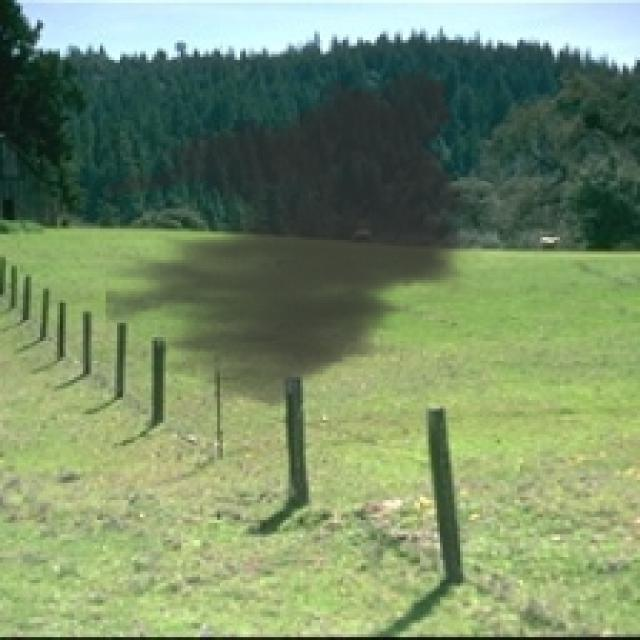Smoke: (106, 51, 488, 420)
